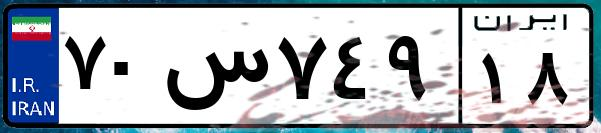0: (110, 28, 158, 98)
1: (475, 38, 525, 113)
4: (330, 28, 385, 110)
7: (270, 28, 330, 110), (57, 26, 110, 100)
8: (525, 38, 570, 115)
9: (385, 28, 445, 110)
س: (158, 20, 270, 120)
